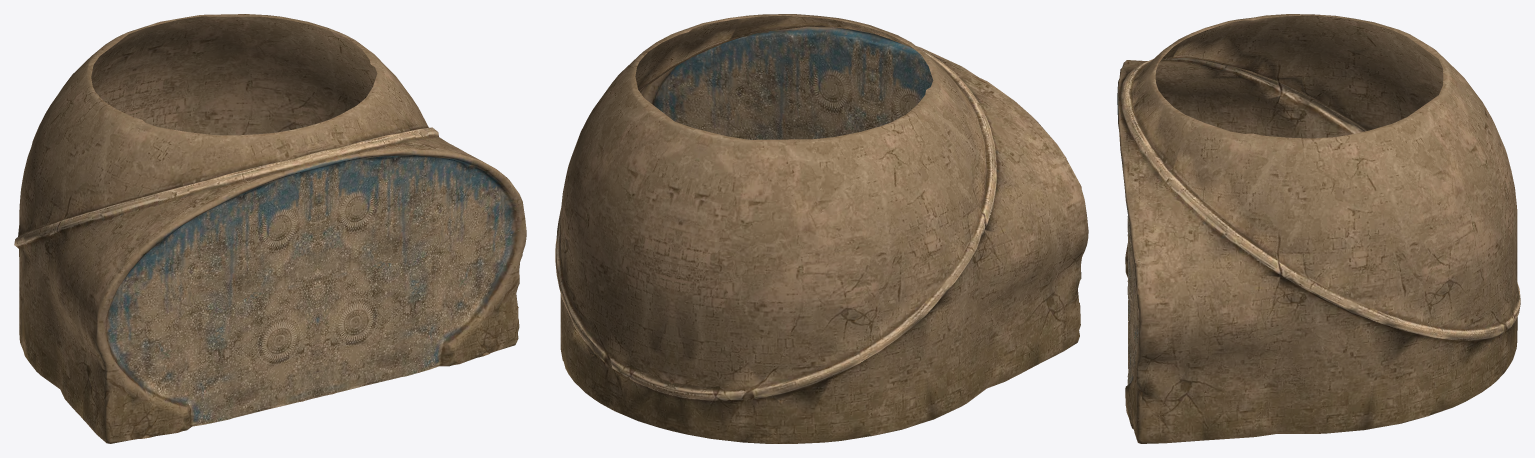
Rendered from fortress-gate.glb.
3 renders of one model, left to right at view 1: azimuth 30°, elevation 25°; view 2: azimuth 150°, elevation 25°; view 3: azimuth 270°, elevation 25°, orthographic. The views are drawn at different scales.
Visible parts, largest first — view 1: DesertTemple_Entrance_Frame_01_Entrance_Frame_01_0; view 2: DesertTemple_Entrance_Frame_01_Entrance_Frame_01_0; view 3: DesertTemple_Entrance_Frame_01_Entrance_Frame_01_0.
Part boxes in pixels (x1=…): DesertTemple_Entrance_Frame_01_Entrance_Frame_01_0: x1=14, y1=14, x2=526, y2=443; DesertTemple_Entrance_Frame_01_Entrance_Frame_01_0: x1=555, y1=14, x2=1088, y2=443; DesertTemple_Entrance_Frame_01_Entrance_Frame_01_0: x1=1117, y1=14, x2=1520, y2=443.
Bounding box in the file's own units: 19.81 × 11.49 × 15.82.
1 material, 1 textured.
